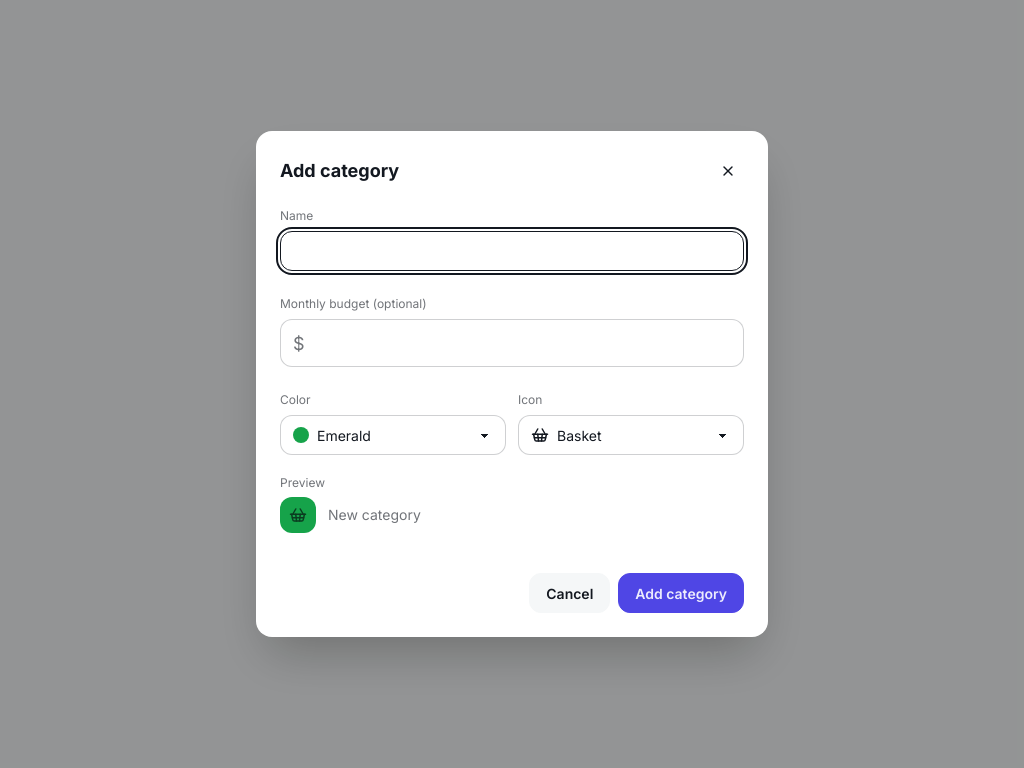
it: AC3: validation › rejects a budget of zero, which is not the same as no limit
Type "Subscriptions" into the field labelled "Name" at [512, 251], box [280,231,744,271]
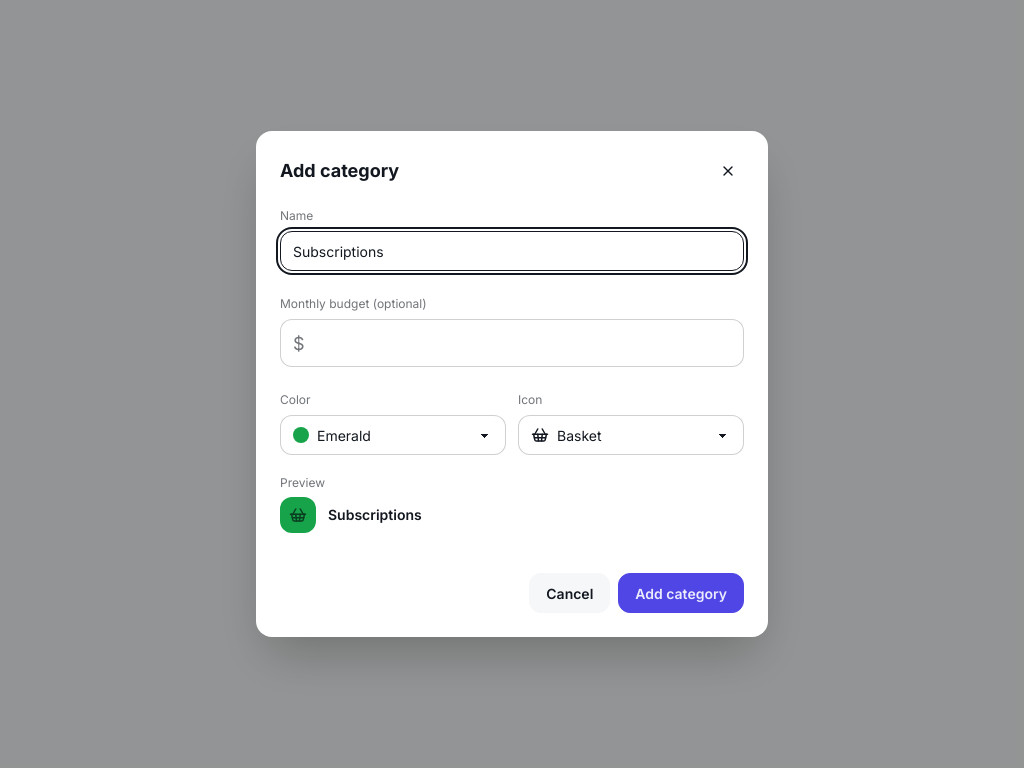
Type "0" into the field labelled "Monthly budget (optional)" at [522, 343], box [313,320,731,366]
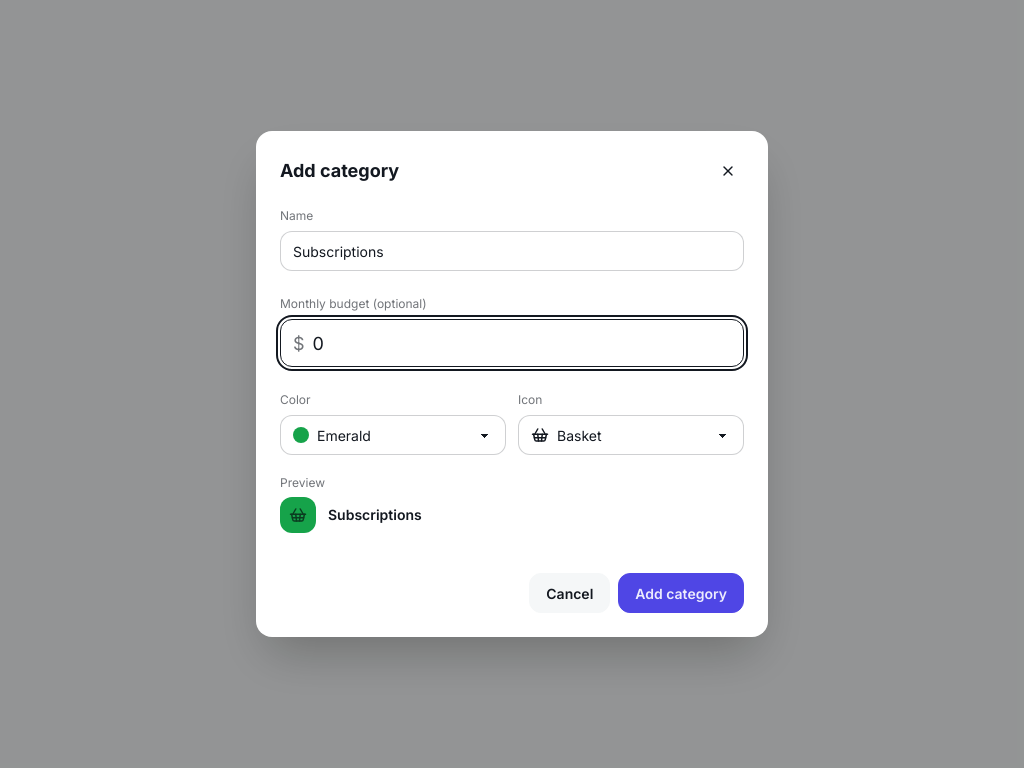
Click the button "Add category" at [681, 593], box [618,573,744,613]
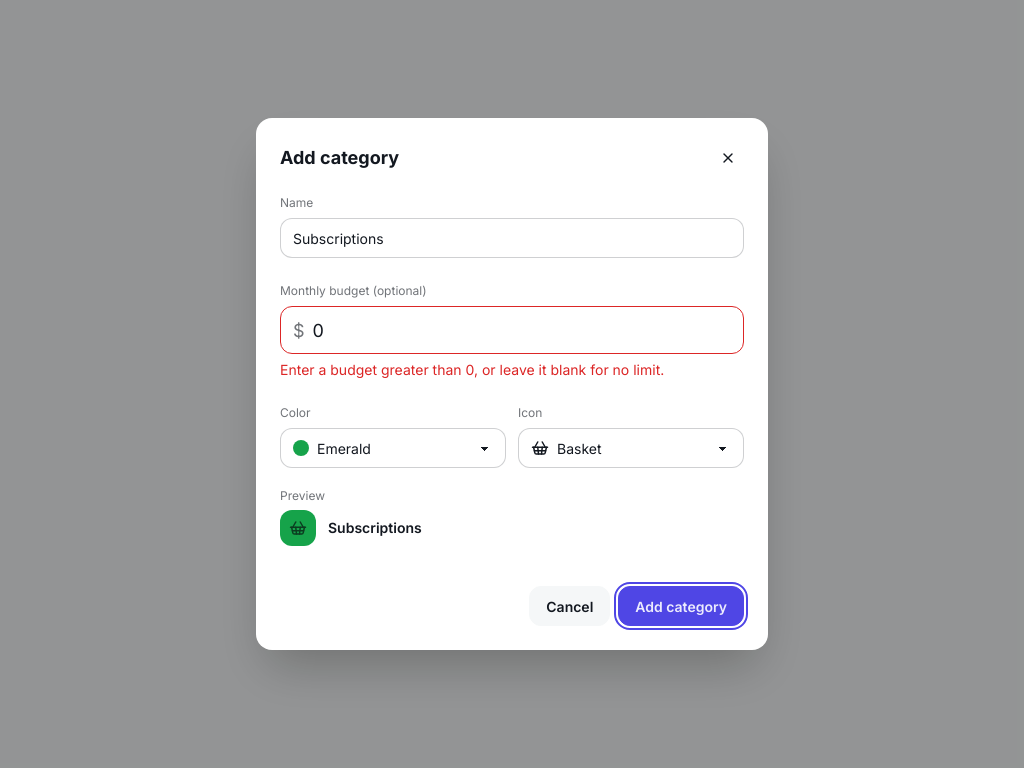
Expected: the text "Enter a budget greater than 0, or leave it blank for no limit." is shown, [280,361,664,378]
